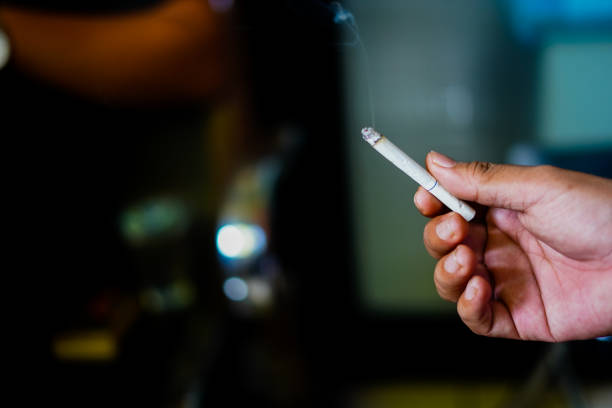cigarette: (361, 127, 478, 219)
